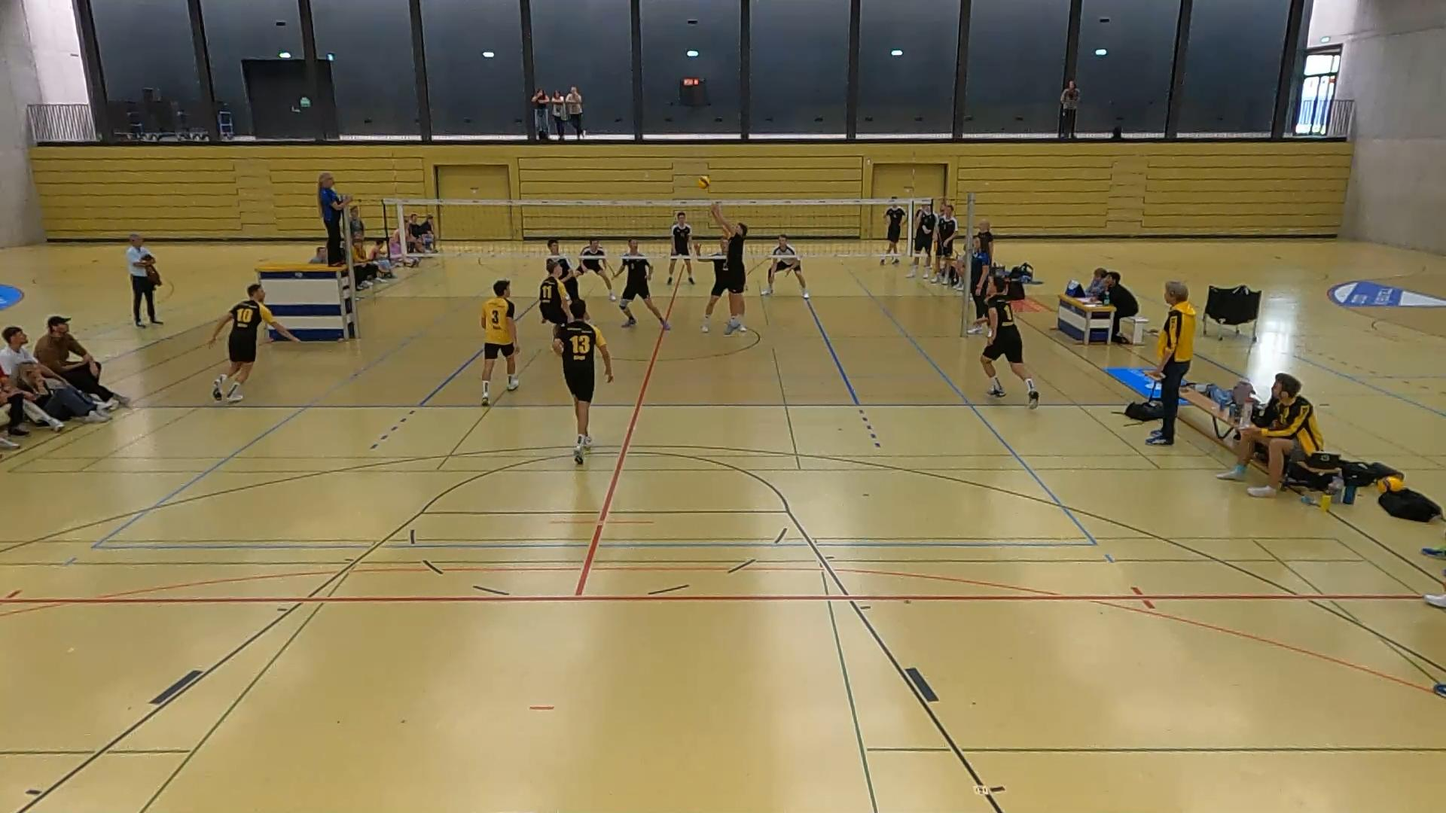Player: (208, 283, 299, 402), (553, 300, 612, 464), (481, 280, 519, 406), (620, 239, 670, 330), (760, 235, 809, 299), (694, 236, 727, 331), (579, 238, 615, 300), (538, 259, 569, 326), (547, 239, 580, 300), (667, 211, 694, 285)
Set: (700, 199, 765, 339)
ball: (697, 172, 714, 189)
